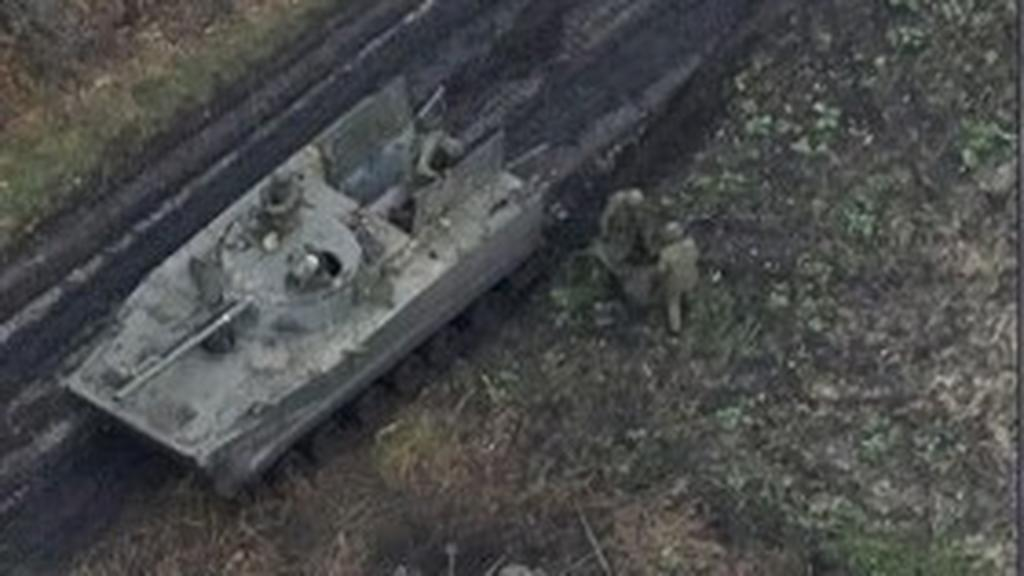APC-IFV: (46, 68, 552, 496)
